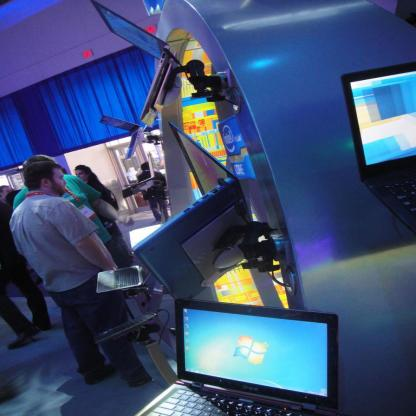board: (147, 304, 356, 416), (132, 122, 254, 300), (338, 62, 416, 235), (89, 0, 169, 122), (90, 279, 166, 345), (99, 115, 143, 159), (121, 150, 156, 200), (97, 262, 146, 292)
